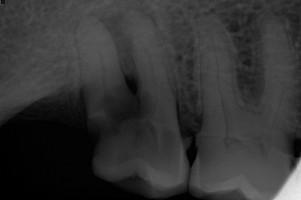Endo-Periodontal Lesion: (123, 71, 140, 94)
